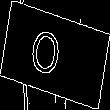O_S: (37, 25, 73, 85)
